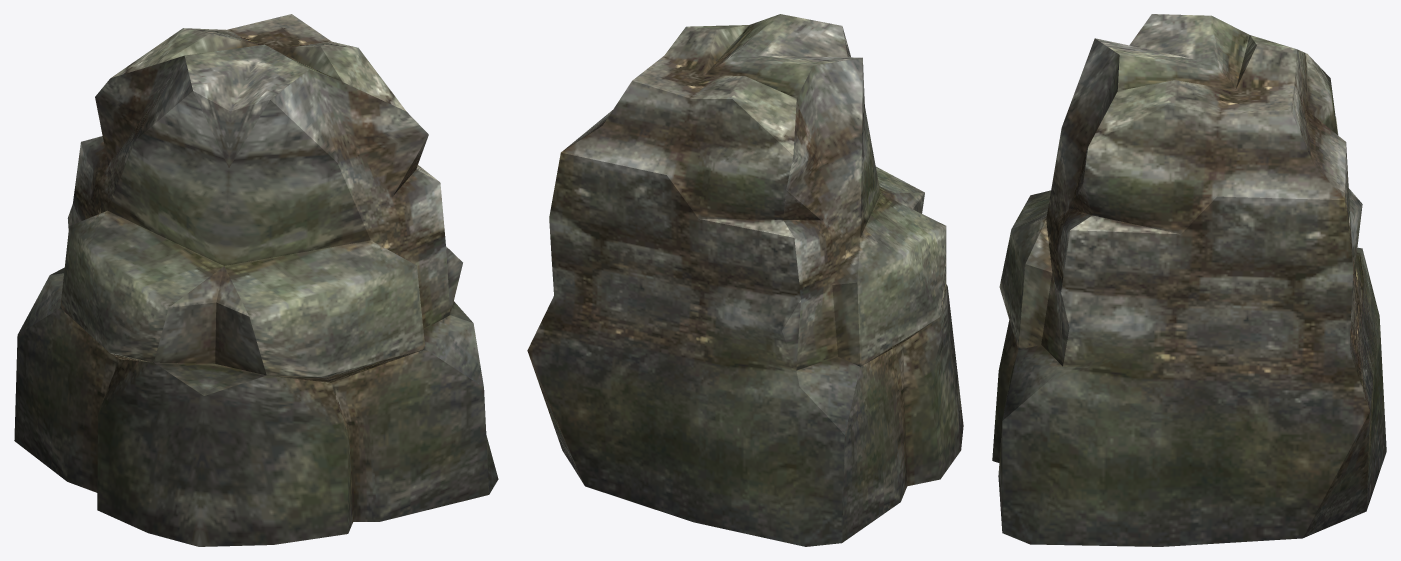
The model's file is shrine_rock_06.fbx.
3 renders of one model, left to right at view 1: azimuth 30°, elevation 25°; view 2: azimuth 150°, elevation 25°; view 3: azimuth 270°, elevation 25°, orthographic. The views are drawn at different scales.
Visible parts, largest first — view 1: Shrine_rock_06; view 2: Shrine_rock_06; view 3: Shrine_rock_06.
Boxes of the visible parts, x1,y1,x2,y2 form: Shrine_rock_06: [14, 14, 498, 546]; Shrine_rock_06: [527, 14, 963, 546]; Shrine_rock_06: [992, 14, 1386, 546].
Size of the model in its own units: 3.17 by 3.7 by 3.16.
